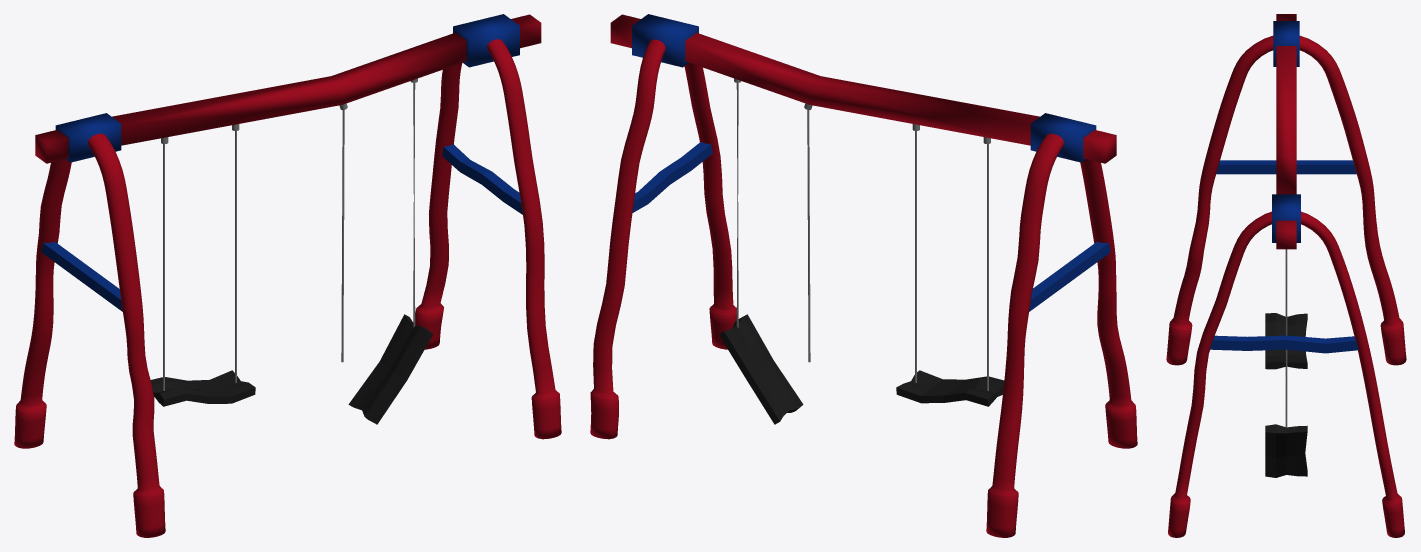
The model's file is Balencoire.fbx.
3 renders of one model, left to right at view 1: azimuth 30°, elevation 25°; view 2: azimuth 150°, elevation 25°; view 3: azimuth 270°, elevation 25°, orthographic. The views are drawn at different scales.
Visible parts, largest first — view 1: Cube.017; view 2: Cube.017; view 3: Cube.017.
Boxes of the visible parts, box(x1,y1,x2,y2) form: Cube.017: box(14, 14, 561, 537); Cube.017: box(590, 14, 1137, 537); Cube.017: box(1166, 14, 1406, 537).
Bounding box in the file's own units: 1373 × 969 × 643.
